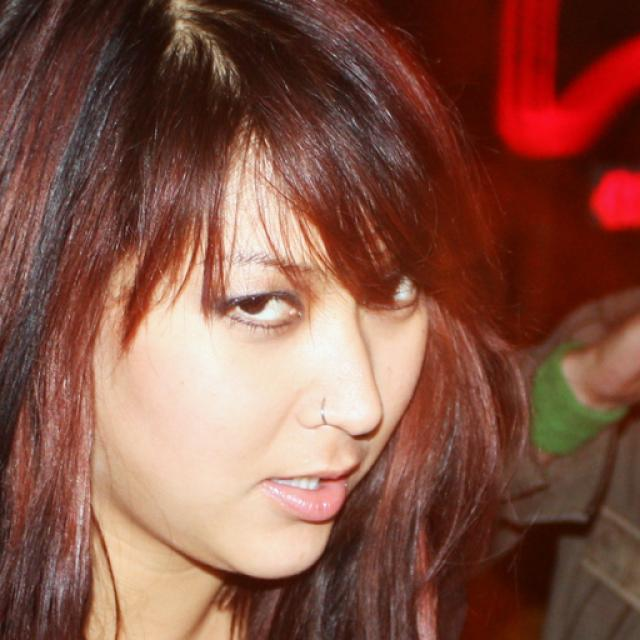neutral: (89, 122, 429, 578)
